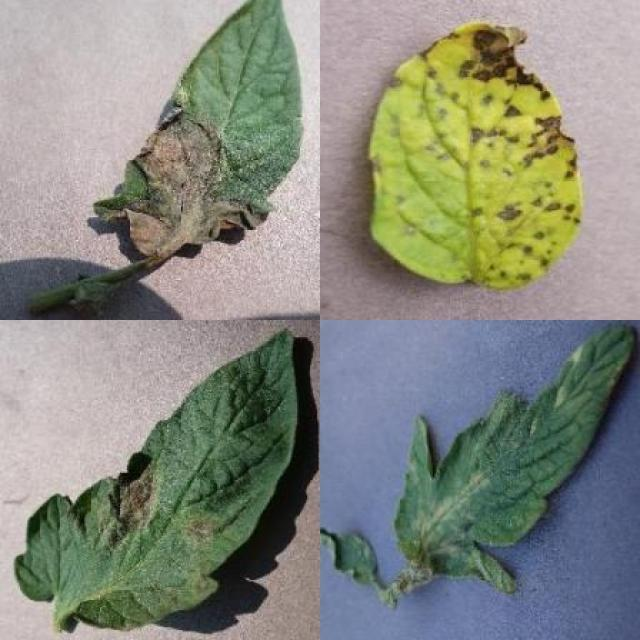Late Blight: (15, 327, 298, 632), (88, 0, 302, 266)
Leaf Mold: (395, 322, 635, 592)
Septoria: (366, 22, 581, 292)
